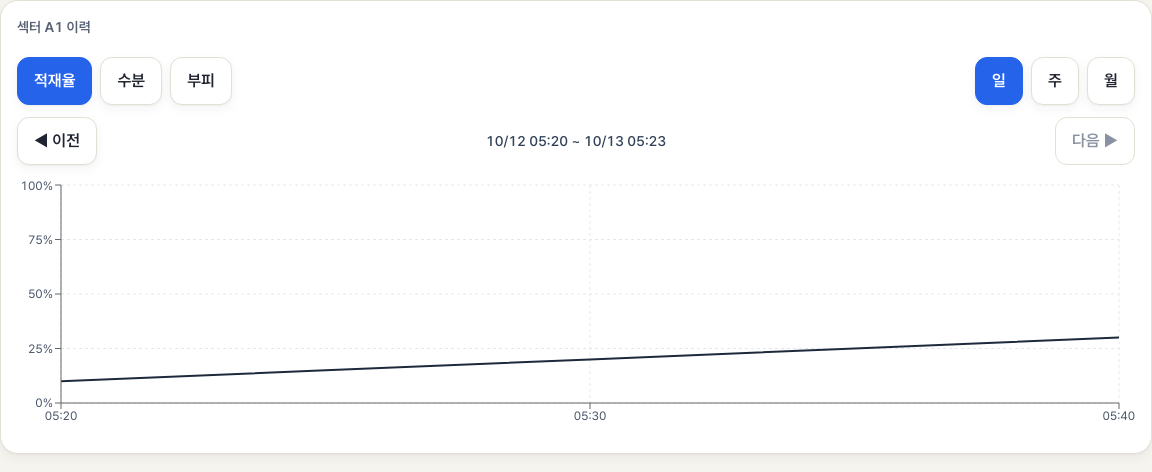
it: HistoryPanel: 구간 › 이전 ▶을 누르면 구간 길이만큼 통째로 이동한 구간을 새로 요청하고 다음 ▶이 켜진다
This screenshot has width=1152, height=472.
Expected: the picture is shown, [17, 177, 1135, 437]
Click the button with aria-label "이전 구간": (57, 141) [17, 117, 97, 165]
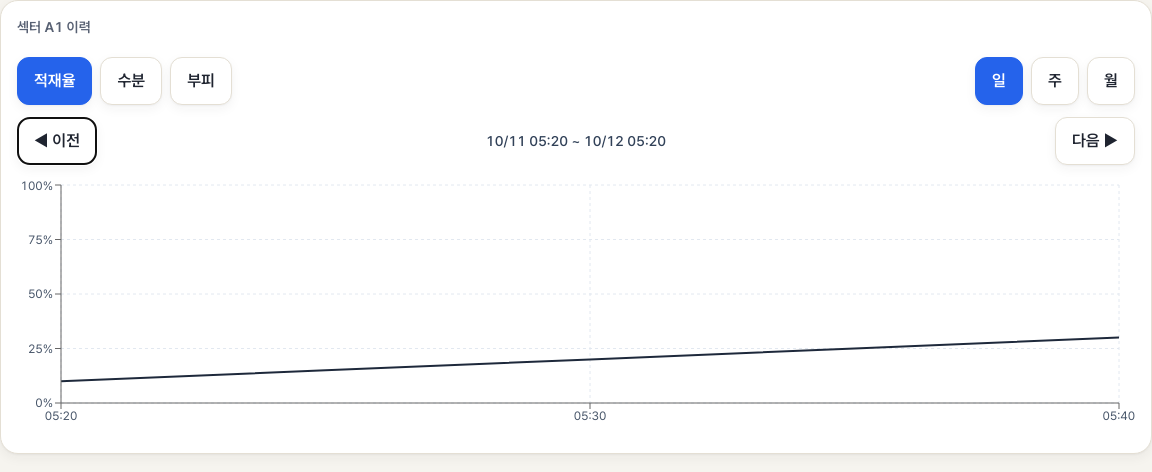
Result: the button with aria-label "다음 구간" is enabled at [1055, 117, 1135, 165]
